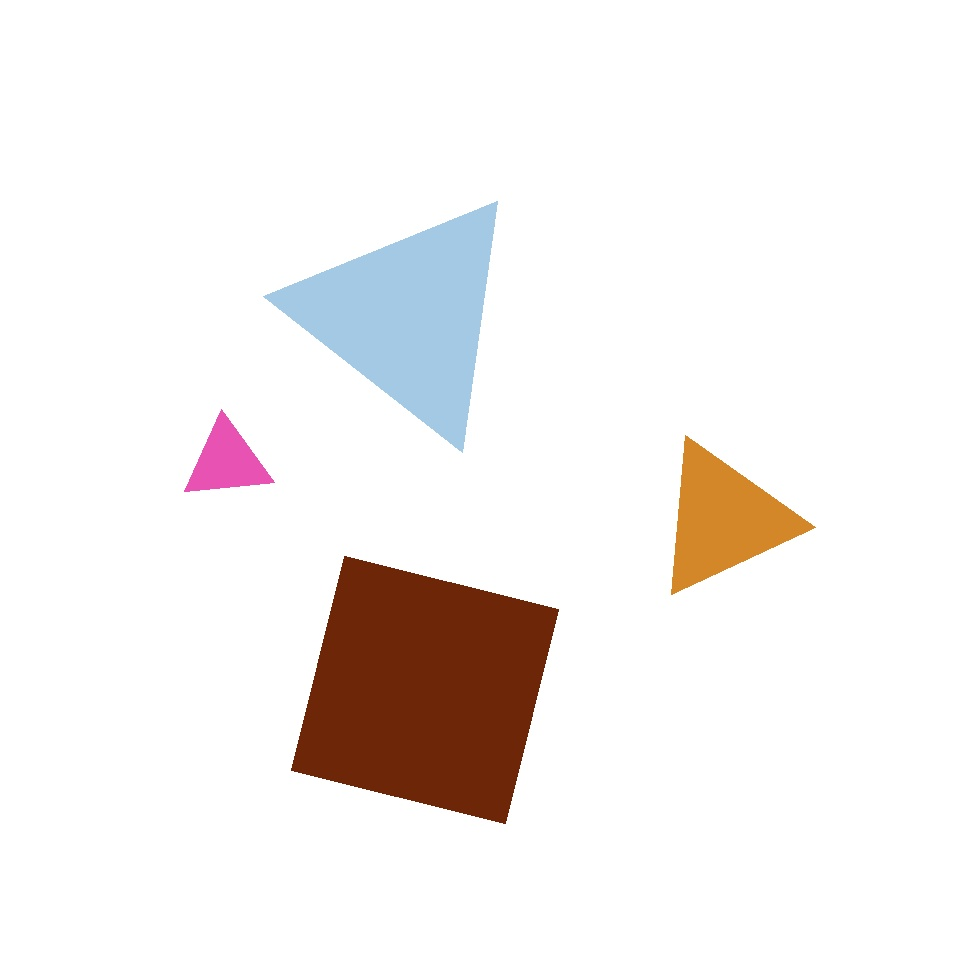circle: (291, 192, 525, 442), (652, 440, 796, 598), (182, 420, 272, 502)
square: (291, 556, 558, 824), (112, 122, 276, 287)
triangle: (8, 499, 286, 779), (154, 128, 343, 316)
